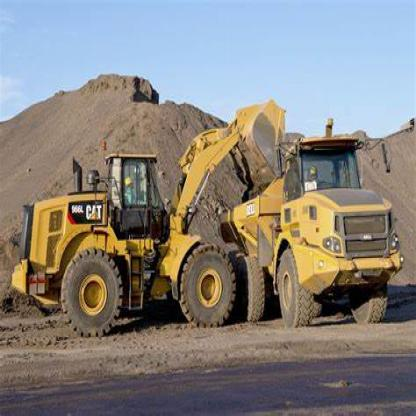bull_dozer/loader/grader: (10, 98, 298, 342)
dump_truck: (223, 137, 407, 337)
